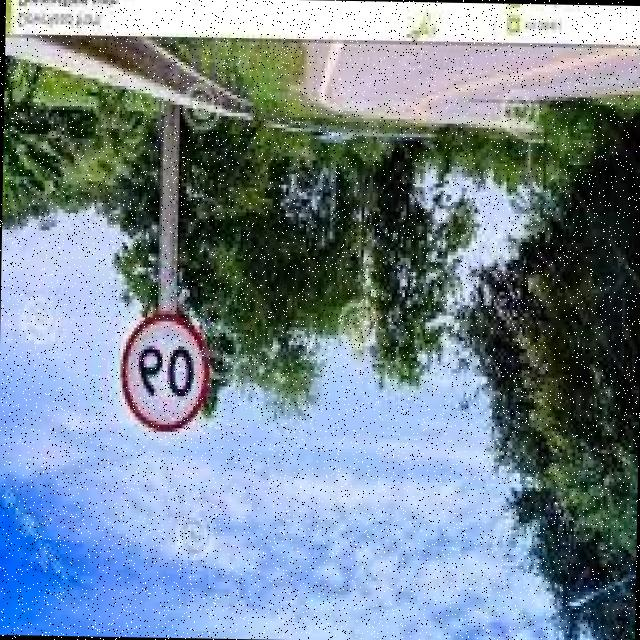speed_limit_60: (116, 312, 211, 443)
